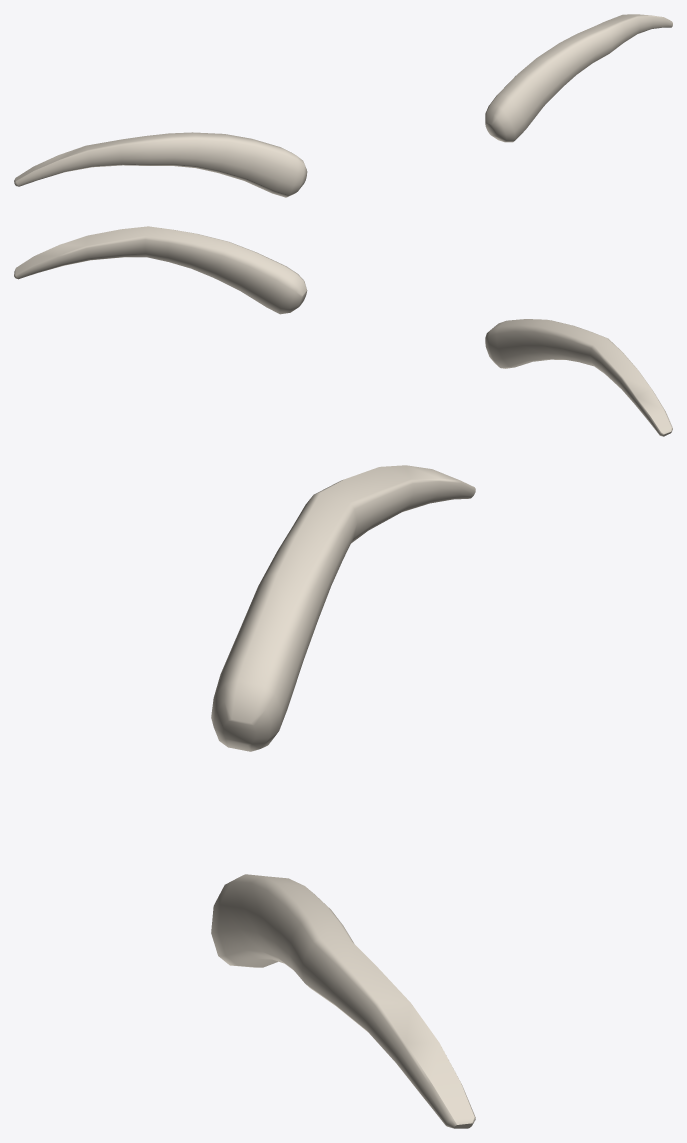
The model's file is Eyebrows_30_07.fbx.
The picture shows the model from 3 angles, top to bottom: view 1: azimuth 30°, elevation 25°; view 2: azimuth 150°, elevation 25°; view 3: azimuth 270°, elevation 25°; orthographic projection. The views are drawn at different scales.
Visible parts, largest first — view 1: Eyebrows_30_07; view 2: Eyebrows_30_07; view 3: Eyebrows_30_07.
Boxes of the visible parts, bbox=[...] form: Eyebrows_30_07: bbox=[14, 14, 672, 197]; Eyebrows_30_07: bbox=[14, 226, 672, 436]; Eyebrows_30_07: bbox=[211, 465, 475, 1128].
Bounding box in the file's own units: 19.88 × 2.07 × 3.47.
